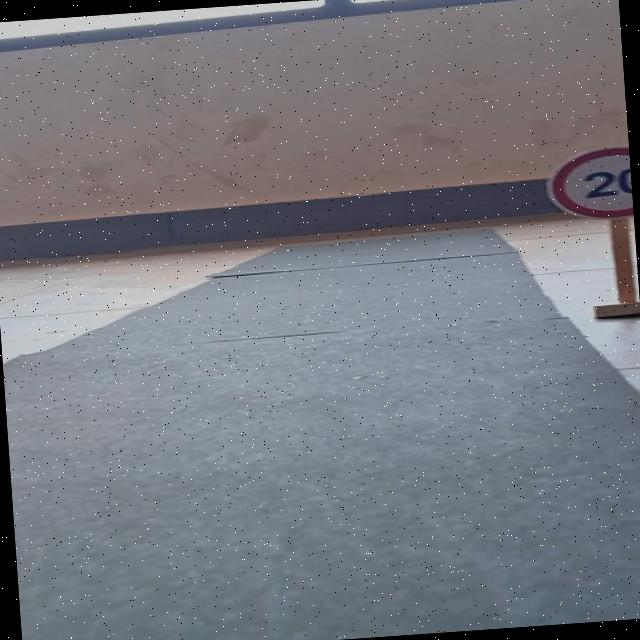Speed20: (530, 141, 634, 231)
